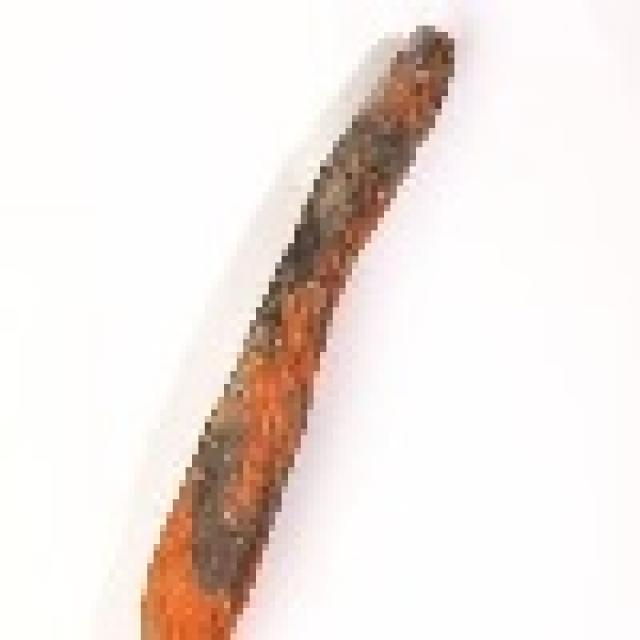Stale_Carrot: (128, 38, 462, 640)
